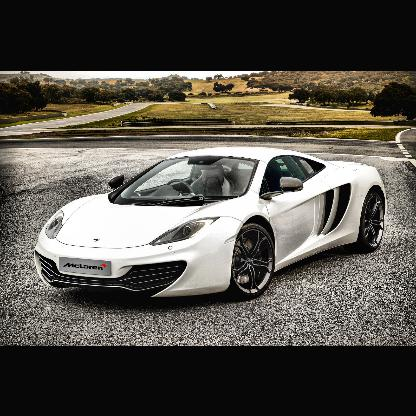McLaren MP4-12C Coupe 2012: (32, 146, 390, 304)
